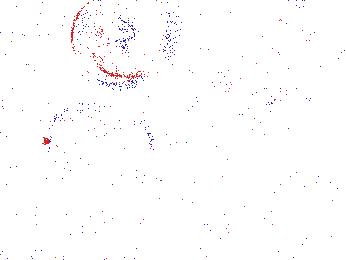moon jellyfish: (49, 103, 154, 184), (71, 1, 164, 85), (192, 66, 292, 121), (278, 1, 346, 58), (194, 12, 284, 51), (1, 1, 44, 55)
